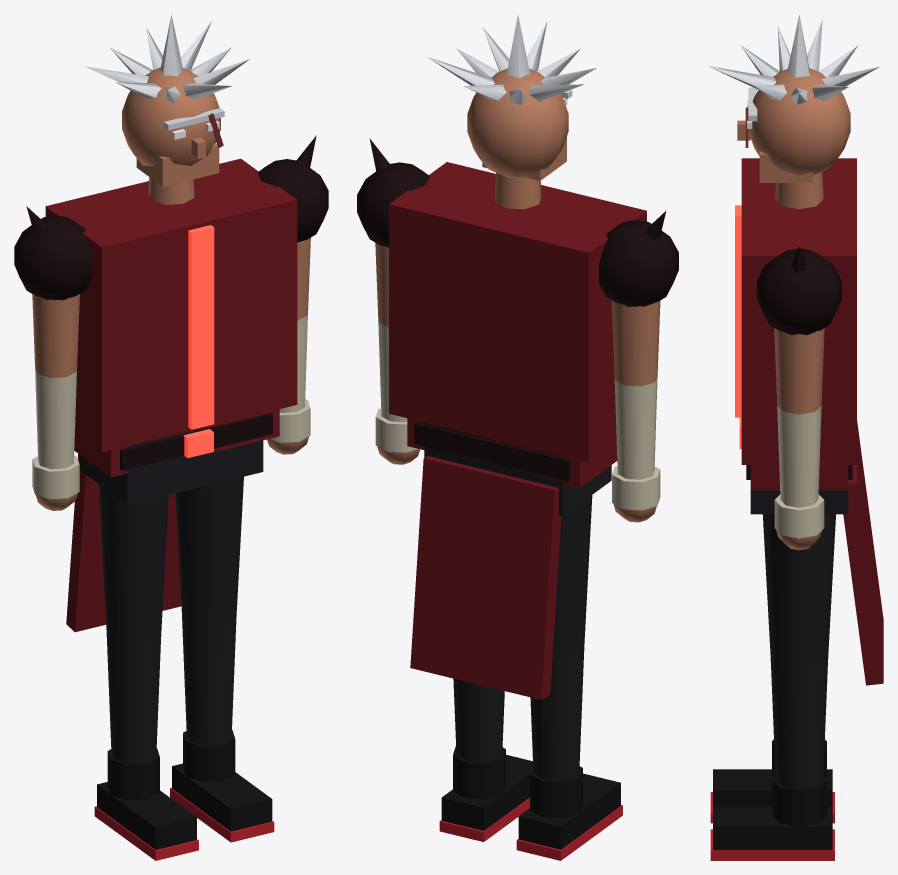
File: rival.glb
The picture shows the model from 3 angles, left to right: view 1: azimuth 30°, elevation 25°; view 2: azimuth 150°, elevation 25°; view 3: azimuth 270°, elevation 25°; orthographic projection. The views are drawn at different scales.
Parts seen in each view (by area): view 1: chest, thigh_R, thigh_L, coat_tail, shin_L, shin_R, skull, pelvis, chest_stripe, shoulder_ball_R, boot_L, boot_R (+17 smaller); view 2: chest, coat_tail, skull, shoulder_ball_R, shin_R, thigh_R, forearm_R, upper_arm_R, shin_L, belt, boot_R, boot_L (+13 smaller); view 3: chest, thigh_L, skull, shin_L, shoulder_ball_L, coat_tail, boot_L, forearm_L, upper_arm_L, boot_R, boot_cuff_L, hand_wrap_L (+14 smaller).
Boxes of the visible parts, box(x1,y1,x2,y2) form: chest: box(45, 158, 297, 452); thigh_R: box(98, 482, 168, 645); thigh_L: box(175, 476, 243, 626); coat_tail: box(66, 454, 181, 632); shin_L: box(182, 613, 236, 744); shin_R: box(106, 632, 160, 763); skull: box(122, 67, 220, 166); pelvis: box(79, 428, 263, 504); chest_stripe: box(188, 225, 214, 429); shoulder_ball_R: box(14, 215, 92, 300); boot_L: box(172, 763, 272, 831); boot_R: box(97, 782, 196, 849); chest: box(389, 162, 646, 462); coat_tail: box(410, 456, 561, 699); skull: box(467, 68, 568, 178); shoulder_ball_R: box(599, 220, 678, 306); shin_R: box(530, 646, 584, 780); thigh_R: box(552, 492, 592, 659); forearm_R: box(614, 375, 657, 479); upper_arm_R: box(611, 300, 660, 386); shin_L: box(453, 678, 504, 761); belt: box(414, 422, 570, 481); boot_R: box(518, 773, 620, 849); boot_L: box(441, 754, 532, 830); chest: box(741, 158, 856, 464); thigh_L: box(762, 514, 835, 668); skull: box(749, 68, 850, 175); shin_L: box(770, 656, 828, 788); shoulder_ball_L: box(757, 248, 841, 335); coat_tail: box(843, 421, 883, 685); boot_L: box(713, 806, 832, 850); forearm_L: box(777, 405, 821, 507); upper_arm_L: box(774, 328, 824, 414); boot_R: box(713, 769, 832, 806); boot_cuff_L: box(772, 775, 826, 826); hand_wrap_L: box(774, 494, 824, 538).
Bounding box in the file's own units: 0.8027 × 2.03 × 0.3973.
